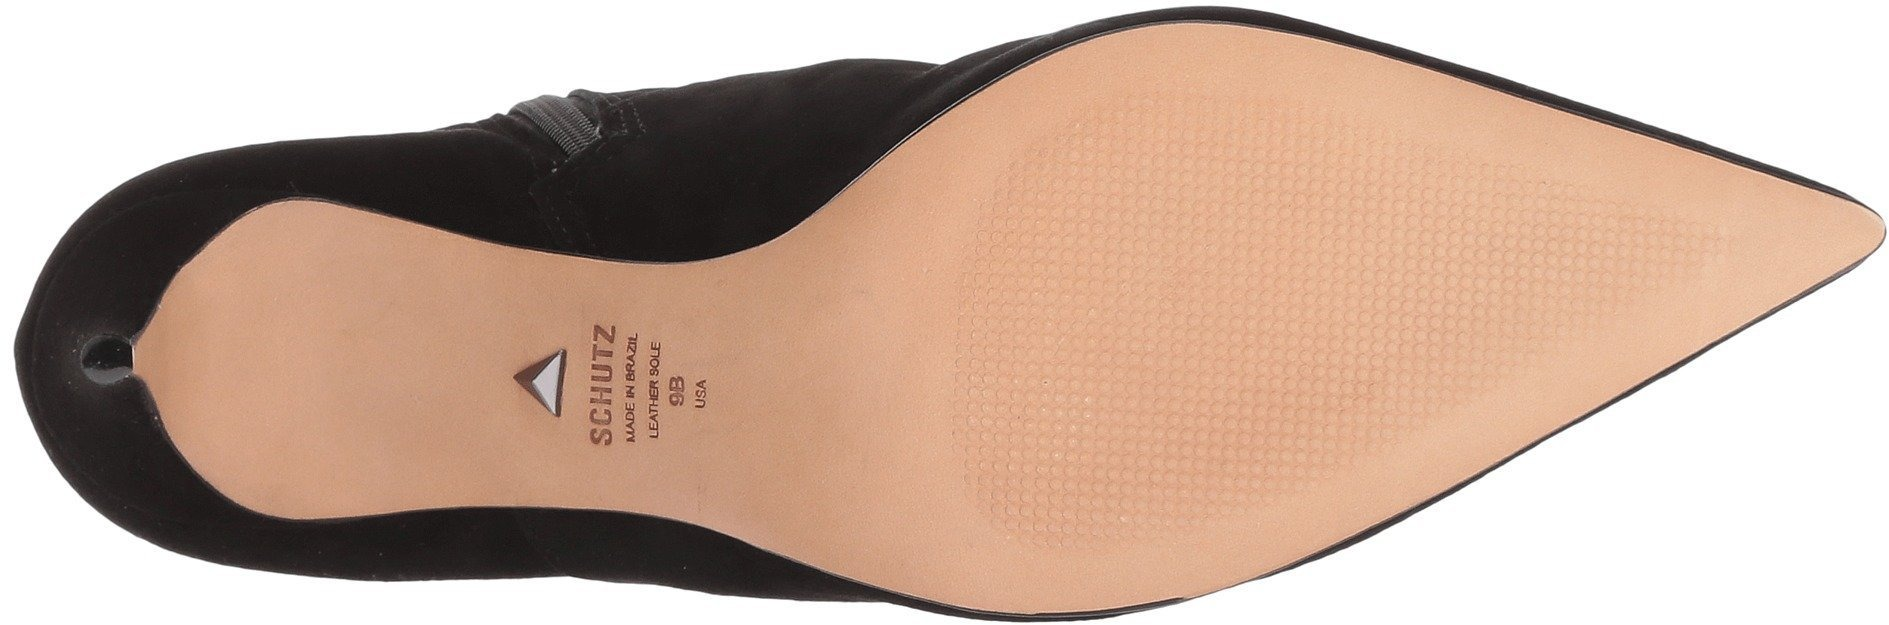circle: (1226, 145, 1466, 376), (1024, 236, 1199, 421), (1469, 167, 1642, 329), (1222, 384, 1331, 494)
other: (951, 219, 1218, 466), (1085, 87, 1219, 204), (89, 346, 124, 385)
